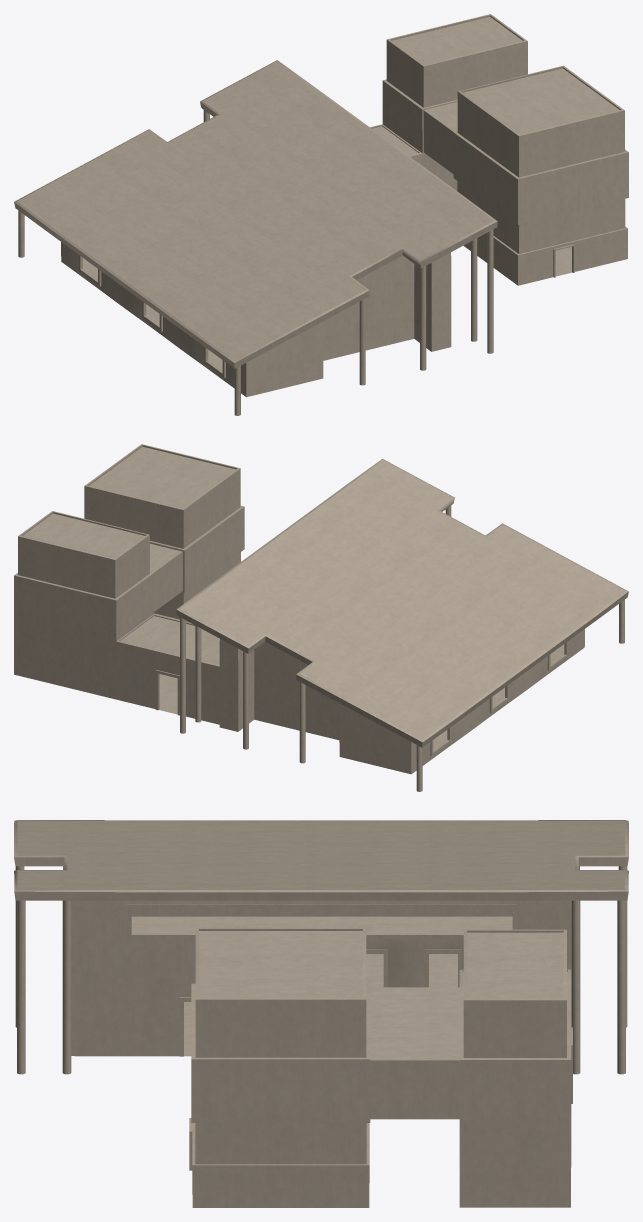
File: Gallery1.glb
3 renders of one model, top to bottom at view 1: azimuth 30°, elevation 25°; view 2: azimuth 150°, elevation 25°; view 3: azimuth 270°, elevation 25°, orthographic. The views are drawn at different scales.
Visible parts, largest first — view 1: Gallery; view 2: Gallery; view 3: Gallery.
Part boxes in pixels (x1=…): Gallery: x1=14, y1=14, x2=628, y2=415; Gallery: x1=14, y1=444, x2=628, y2=791; Gallery: x1=14, y1=820, x2=628, y2=1207.
Size of the model in its own units: 1673 by 518 by 1393.
1 material, 1 textured.
